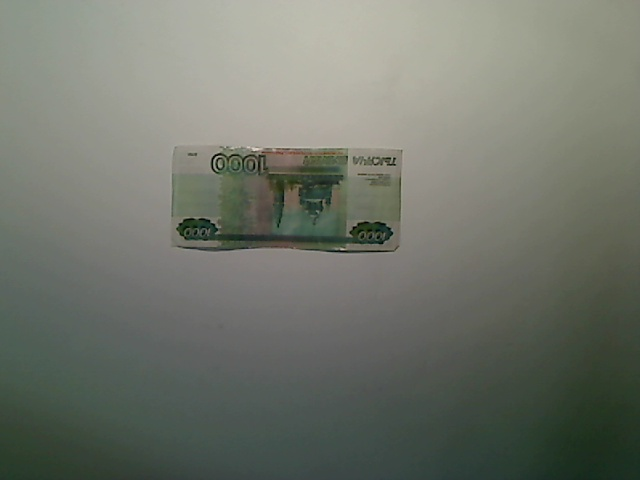banknotes: (167, 142, 406, 257)
